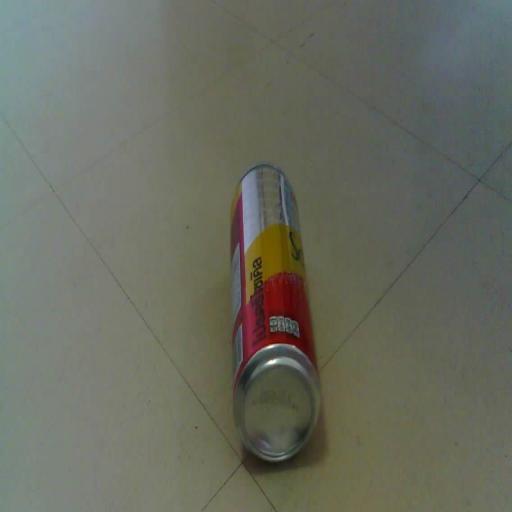canned: (224, 145, 330, 482)
